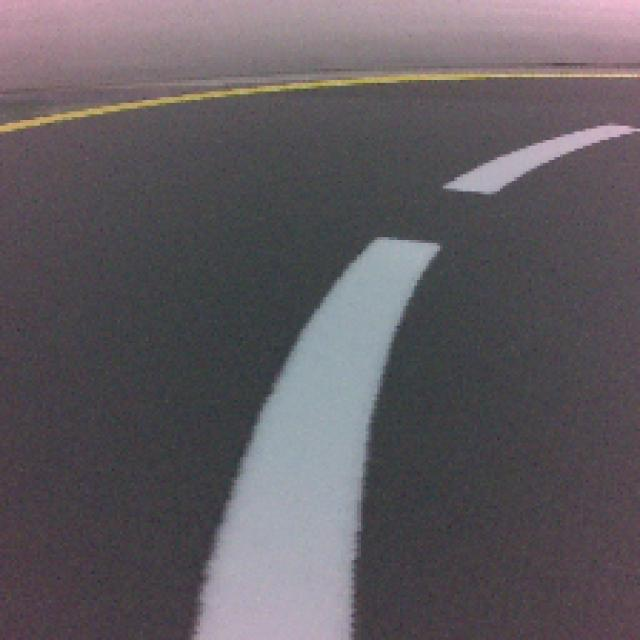Guard rail: (195, 236, 438, 640)
